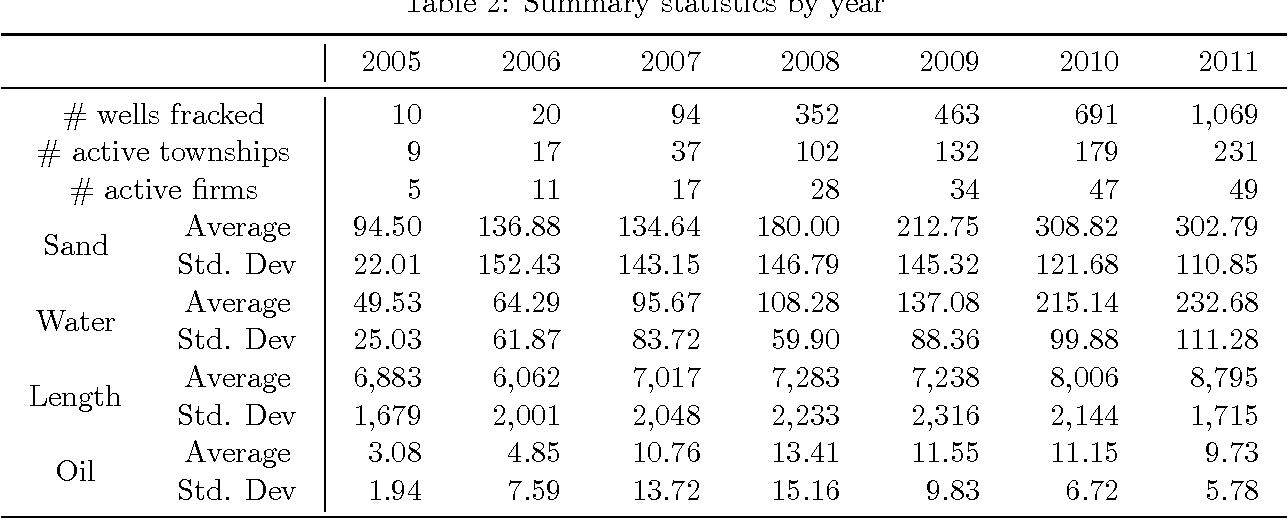fracking table: (1, 29, 1288, 515)
